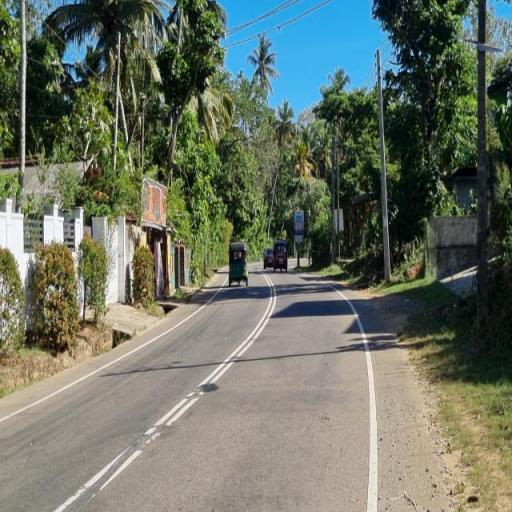double_white_line: (142, 274, 274, 440)
